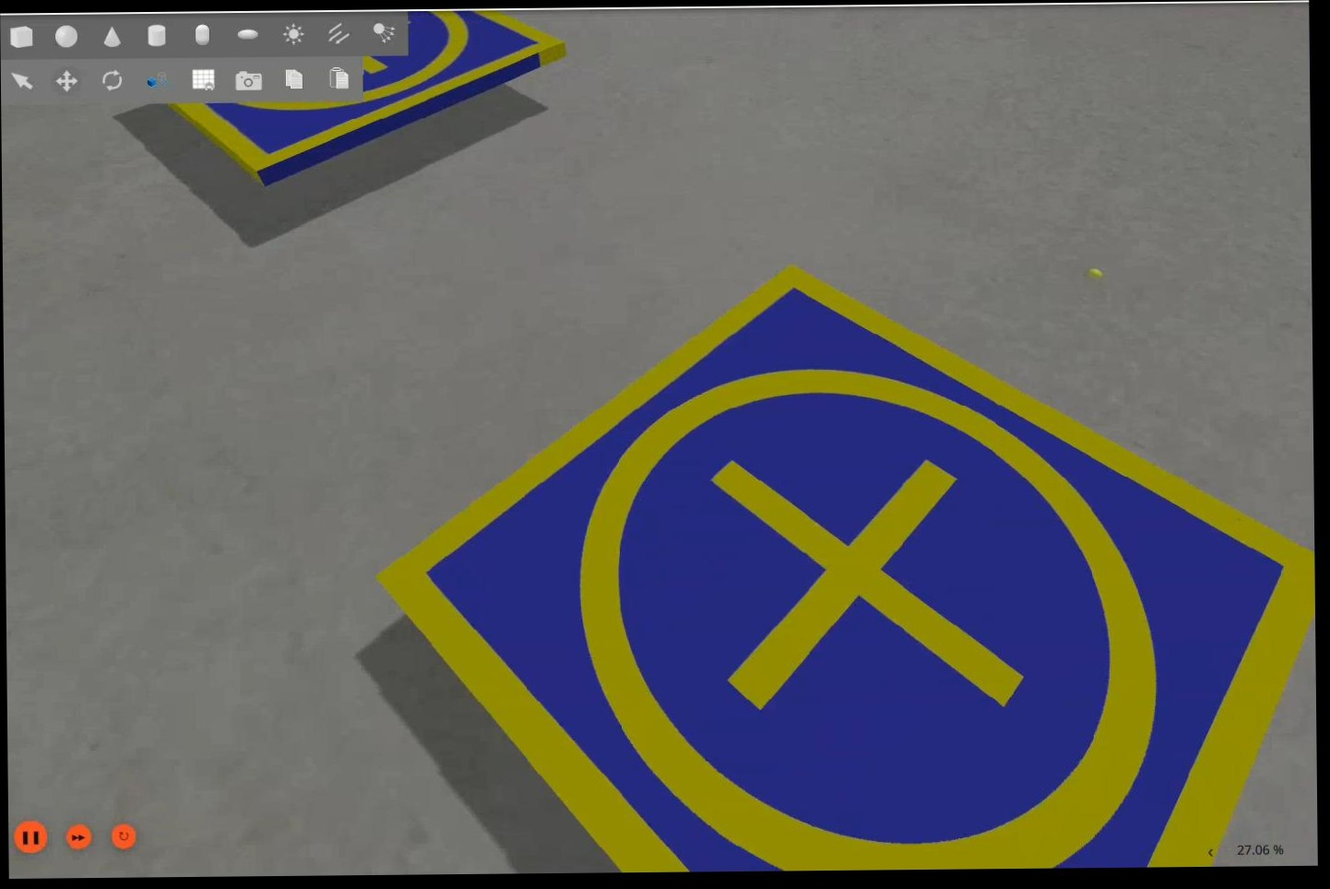small_base: (372, 255, 1320, 877), (164, 7, 571, 185)
